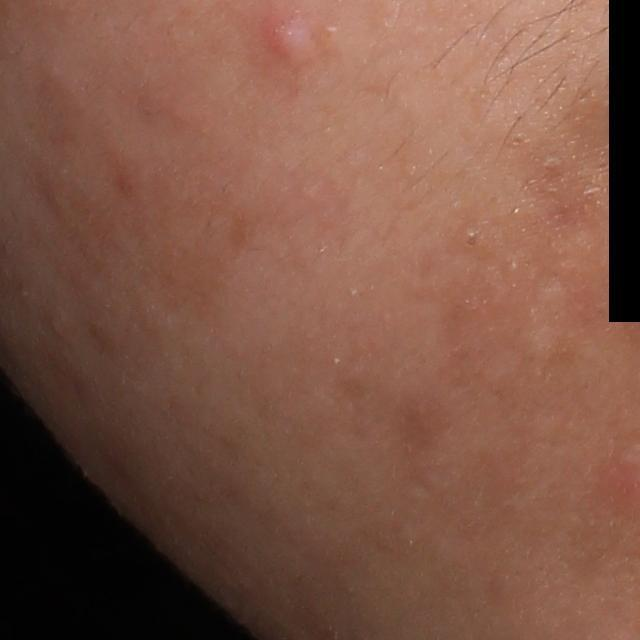papule: (265, 12, 311, 70)
